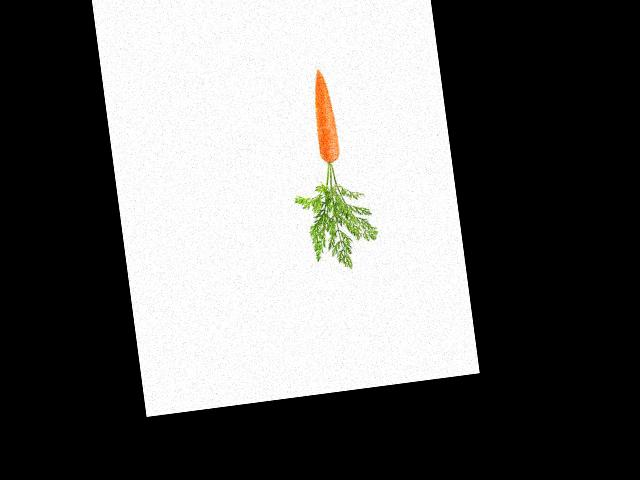carrot: (302, 63, 344, 170)
